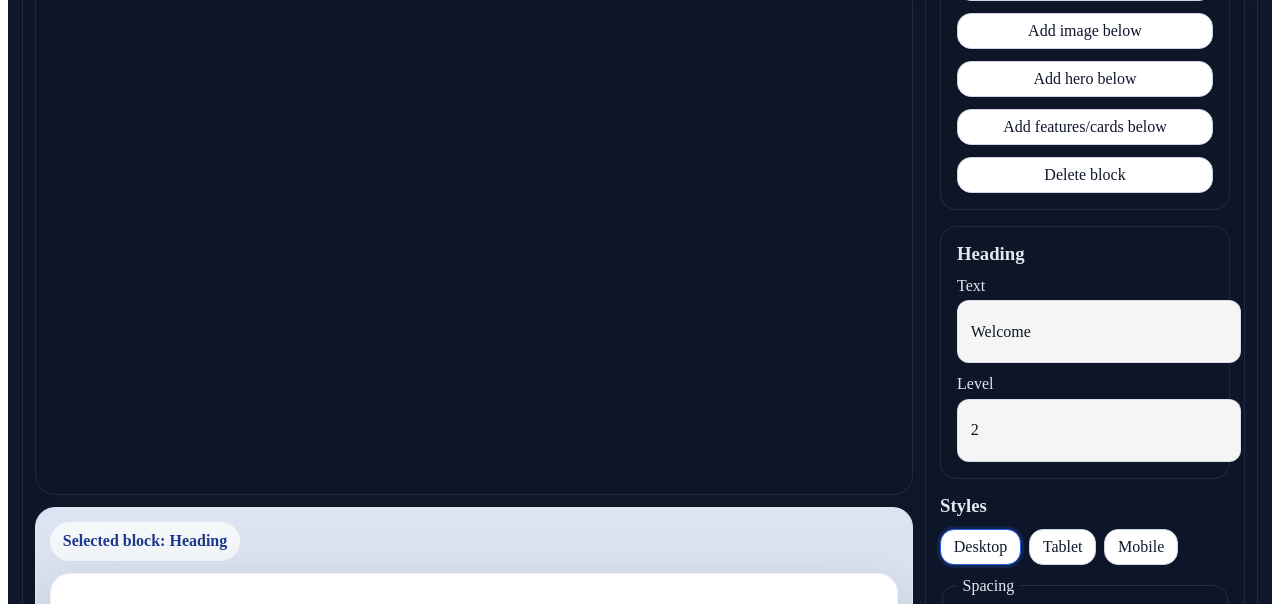
admin editor publish flow › publishes the document currently edited through the plugin editor page
(page scrolled)
Replace the text in the field labelled "Text" with "Published heading" at (1099, 332), box [957, 300, 1241, 363]
(page scrolled)
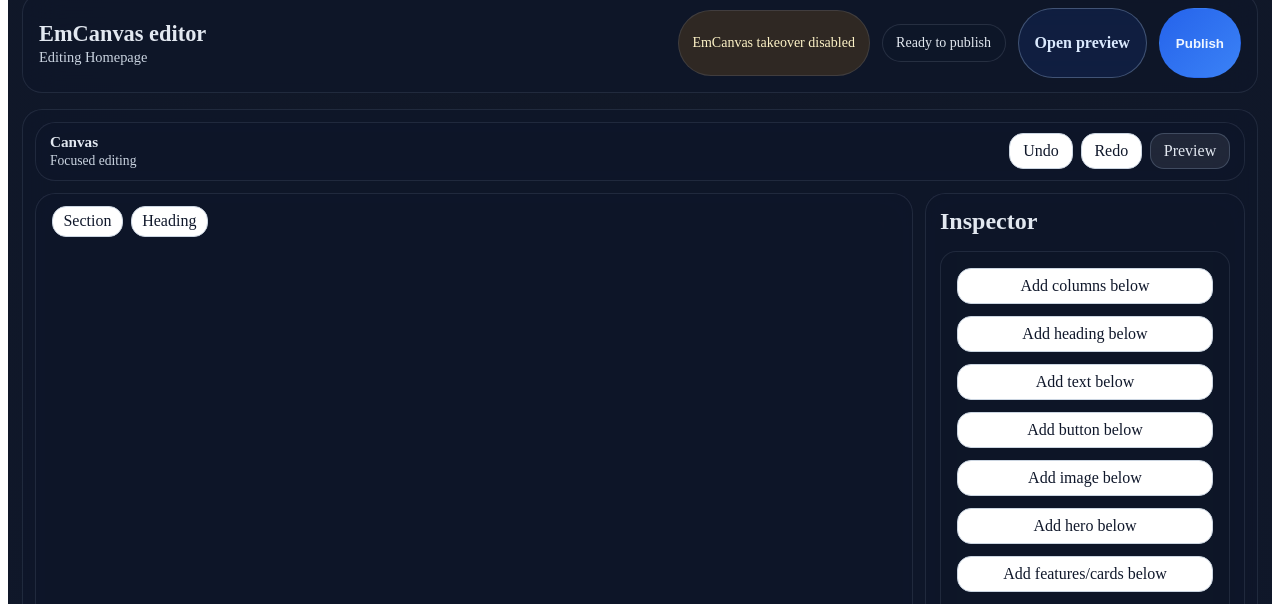
Click the button "Publish" at (1200, 43), box [1159, 8, 1241, 78]
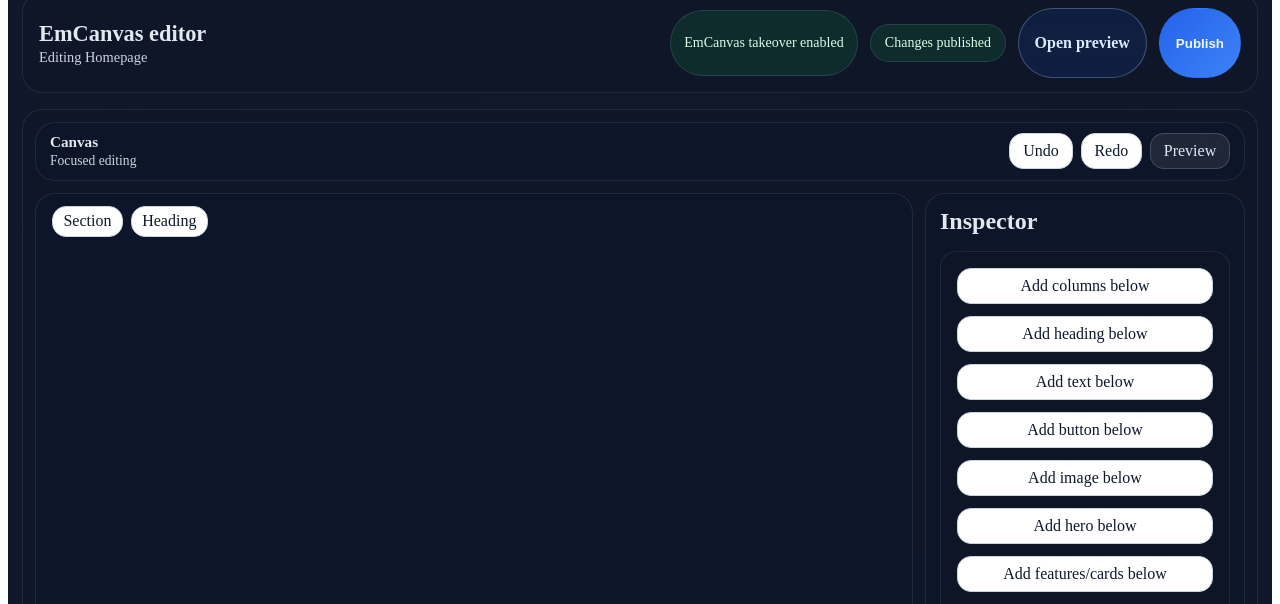
Check: the text "Changes published" is shown, box [870, 24, 1006, 62]
Check: the text "EmCanvas takeover enabled" is shown, box [684, 35, 844, 51]
